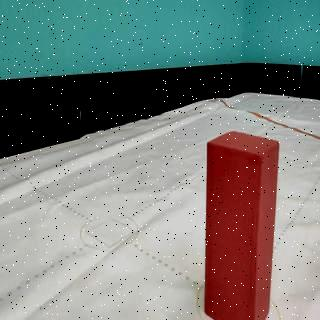redbox: (204, 129, 279, 320)
